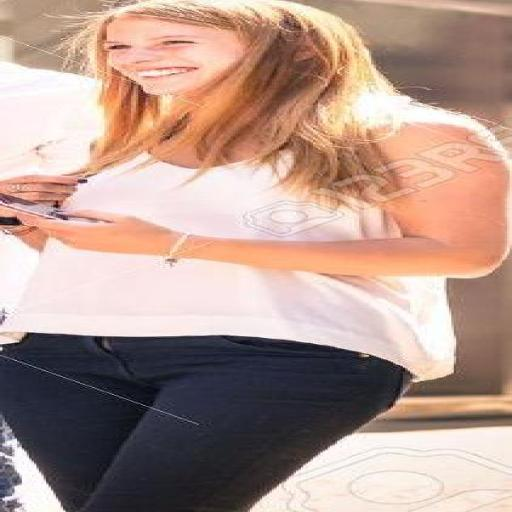person: (0, 0, 509, 511), (0, 62, 99, 203)
